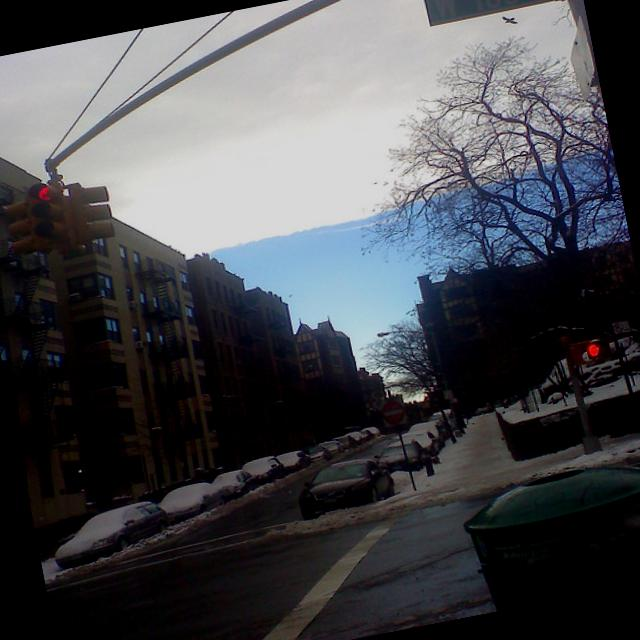Vehicle: (46, 496, 180, 572), (292, 452, 399, 520), (154, 478, 231, 524), (373, 434, 428, 478), (207, 466, 267, 504), (394, 427, 446, 462), (241, 454, 288, 488), (407, 418, 452, 448), (275, 448, 313, 476), (318, 438, 348, 459), (307, 444, 333, 464), (345, 430, 372, 448), (332, 434, 358, 452)
